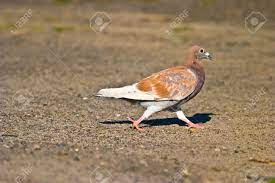Walking: (85, 40, 228, 135)
